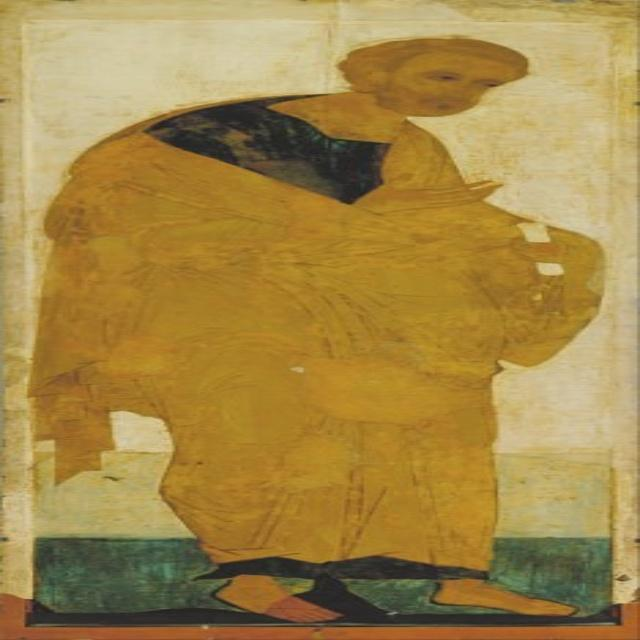person: (30, 36, 580, 612)
scroll: (501, 219, 580, 281)
